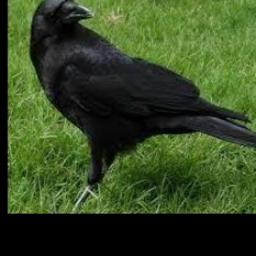Crow: (29, 0, 256, 187)
